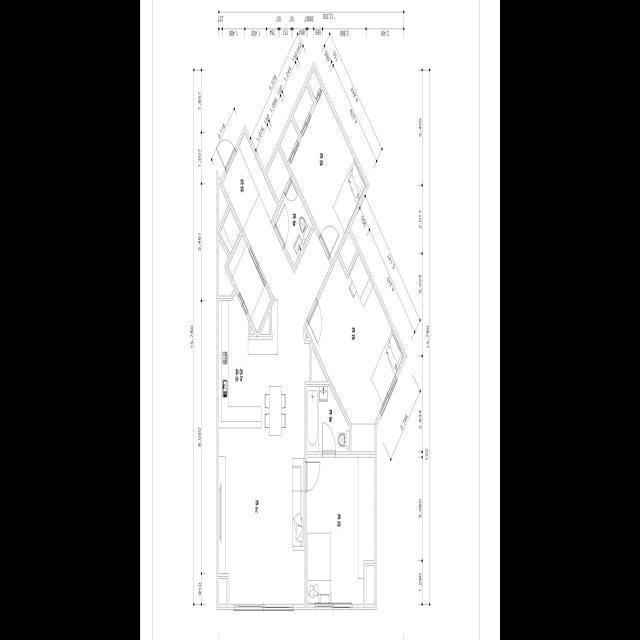background: (140, 0, 500, 640)
space_bedroom: (307, 253, 403, 451), (289, 89, 366, 260), (307, 457, 374, 604)
space_front: (222, 132, 266, 229)
space_kitchen: (219, 292, 278, 427)
space_living_room: (218, 179, 331, 604)
space_other: (228, 235, 271, 332), (267, 148, 290, 202), (293, 86, 314, 132), (220, 208, 241, 253), (219, 239, 234, 295), (280, 119, 299, 161), (339, 231, 357, 271), (312, 347, 327, 381), (219, 183, 228, 226), (308, 70, 321, 98), (366, 565, 374, 604), (260, 312, 270, 334), (219, 578, 227, 604), (251, 325, 254, 334), (306, 334, 308, 338)
space_toilet: (274, 179, 313, 265), (307, 386, 349, 451)
